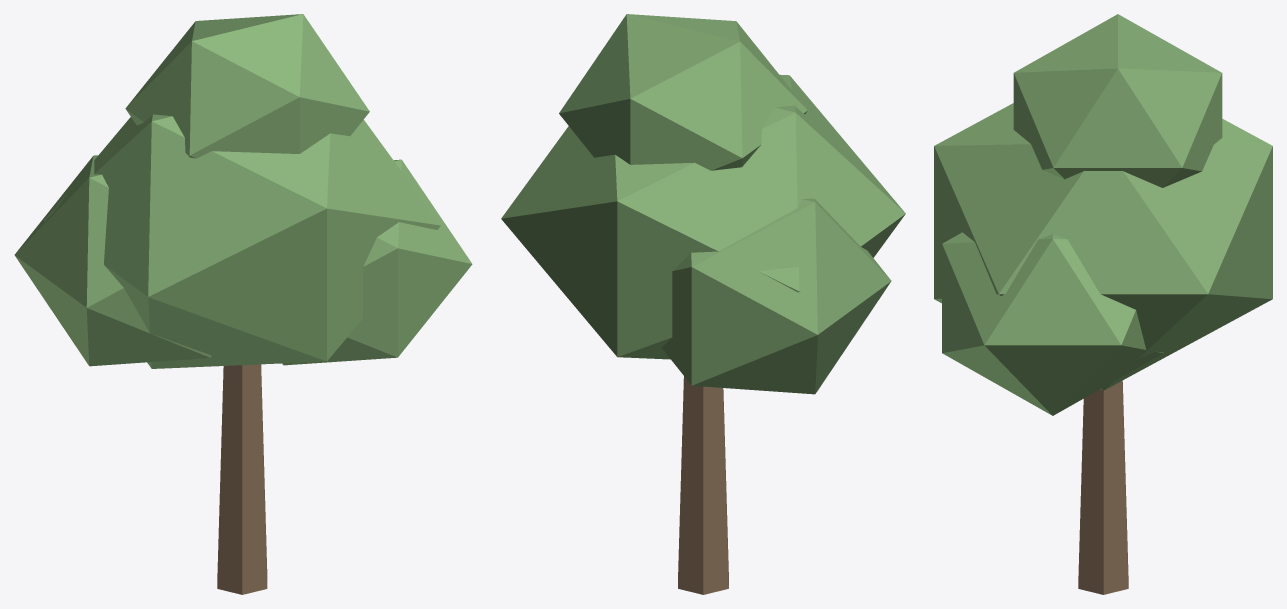
The model's file is tree_mid.glb.
3 views of the same model, side by side, from view 1: azimuth 30°, elevation 25°; view 2: azimuth 150°, elevation 25°; view 3: azimuth 270°, elevation 25° (orthographic).
Parts seen in each view (by area): view 1: tree_mid; view 2: tree_mid; view 3: tree_mid.
Boxes of the visible parts, <box> form: tree_mid: <box>14,14,472,594</box>; tree_mid: <box>501,14,905,594</box>; tree_mid: <box>934,14,1272,594</box>.
Bounding box in the file's own units: 2.73 × 4.18 × 2.34.
